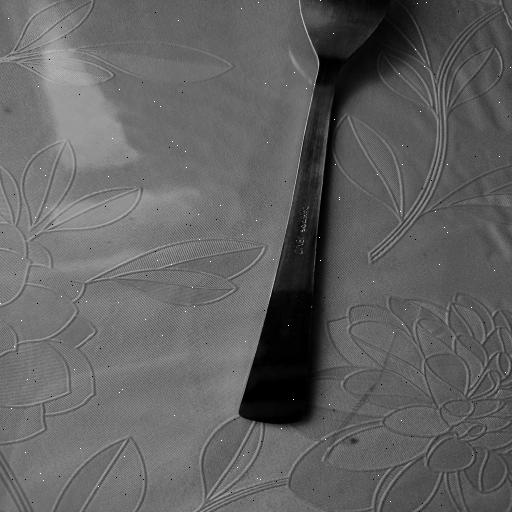fork: (232, 0, 393, 427)
